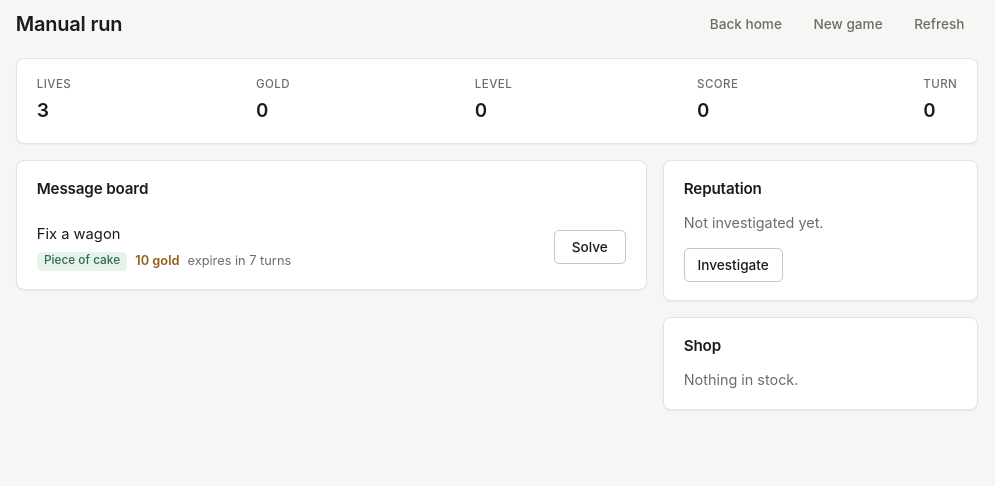
Scenario: ManualGameView › shows a failed outcome below the board
The width and height of the screenshot is (995, 486).
Click the button with class "task__action".
click(590, 247)  # box [554,230,626,264]
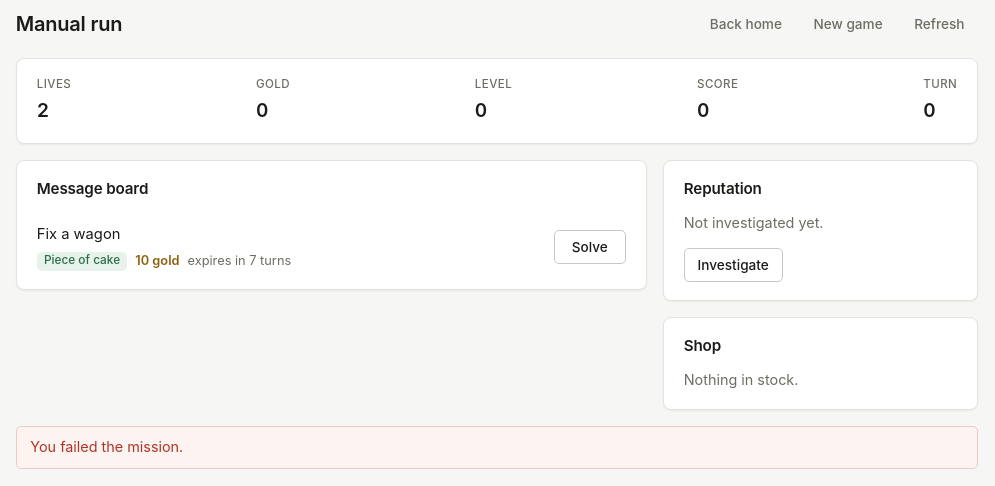
Result: the message with class "notice--failure" reads "You failed the mission." at [30,438,183,455]
